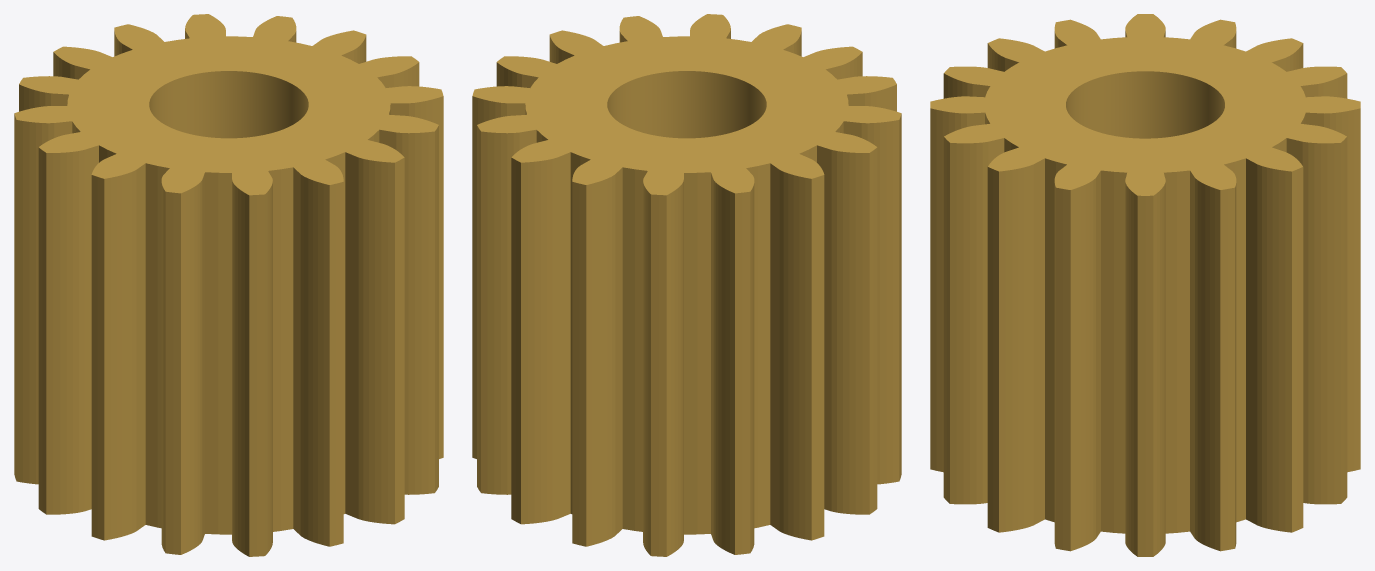
The model's file is gear_m03_z16_390754.glb.
The picture shows the model from 3 angles, left to right: view 1: azimuth 30°, elevation 25°; view 2: azimuth 150°, elevation 25°; view 3: azimuth 270°, elevation 25°; orthographic projection.
Visible parts, largest first — view 1: gear; view 2: gear; view 3: gear.
Boxes of the visible parts, x1,y1,x2,y2 form: gear: (14,14,443,556); gear: (472,14,901,556); gear: (930,14,1360,556).
Size of the model in its own units: 0.0054 by 0.005 by 0.0054.
